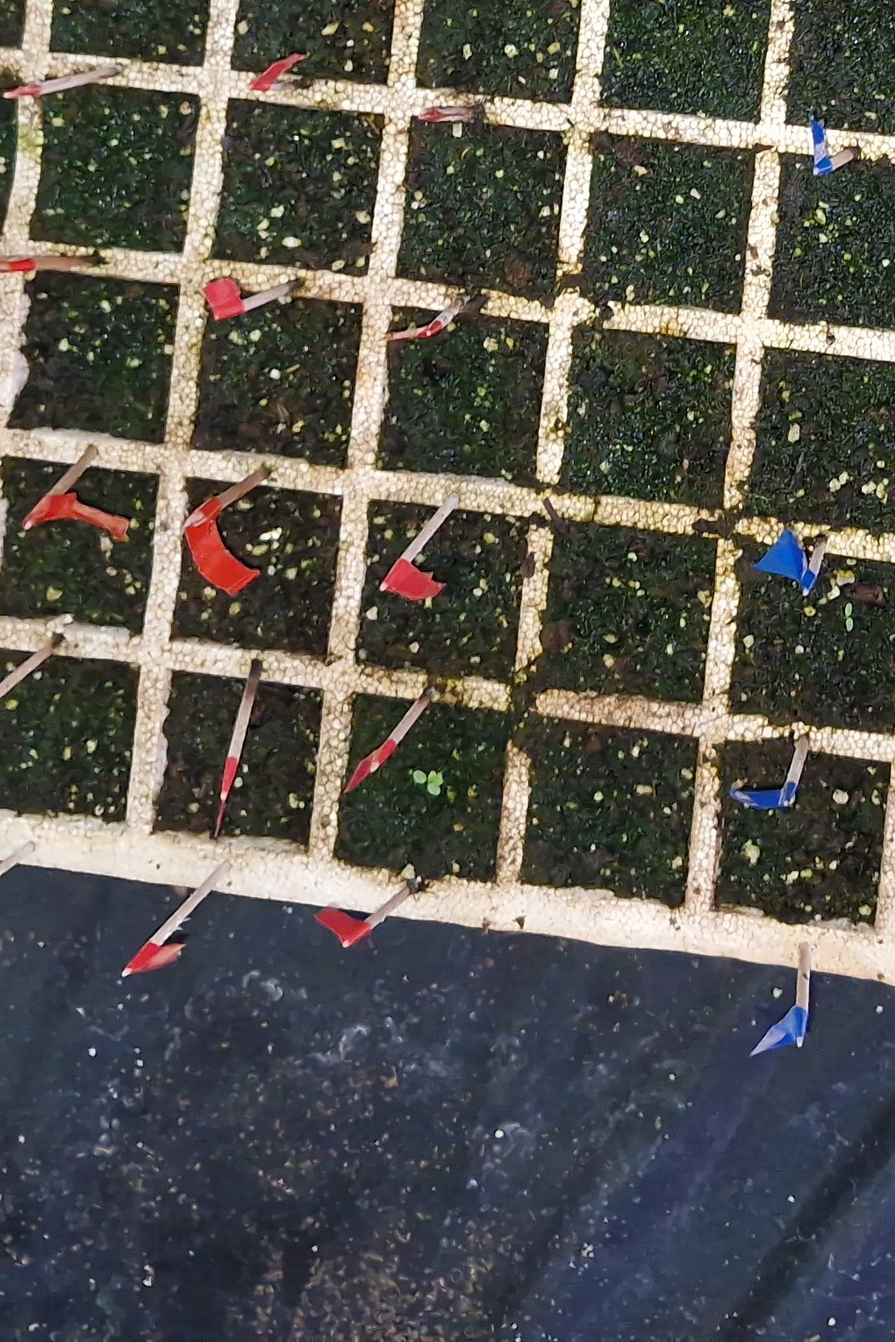Folha: (428, 771, 443, 786), (414, 770, 426, 783), (428, 784, 440, 795)
Germinacao: (413, 771, 444, 796), (844, 603, 853, 631)
